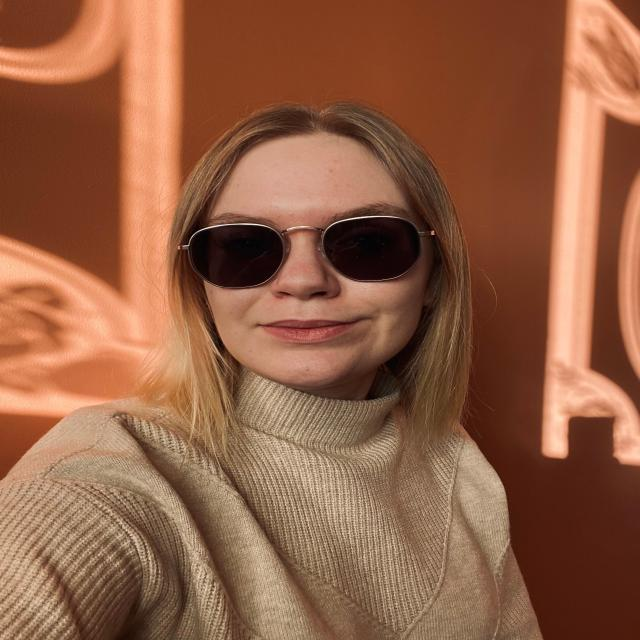2_gafas: (177, 214, 436, 290)
